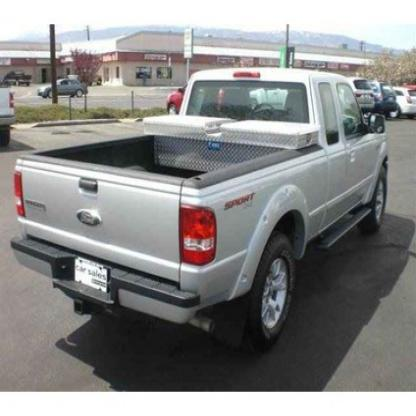Vehicle: (12, 70, 388, 361)
